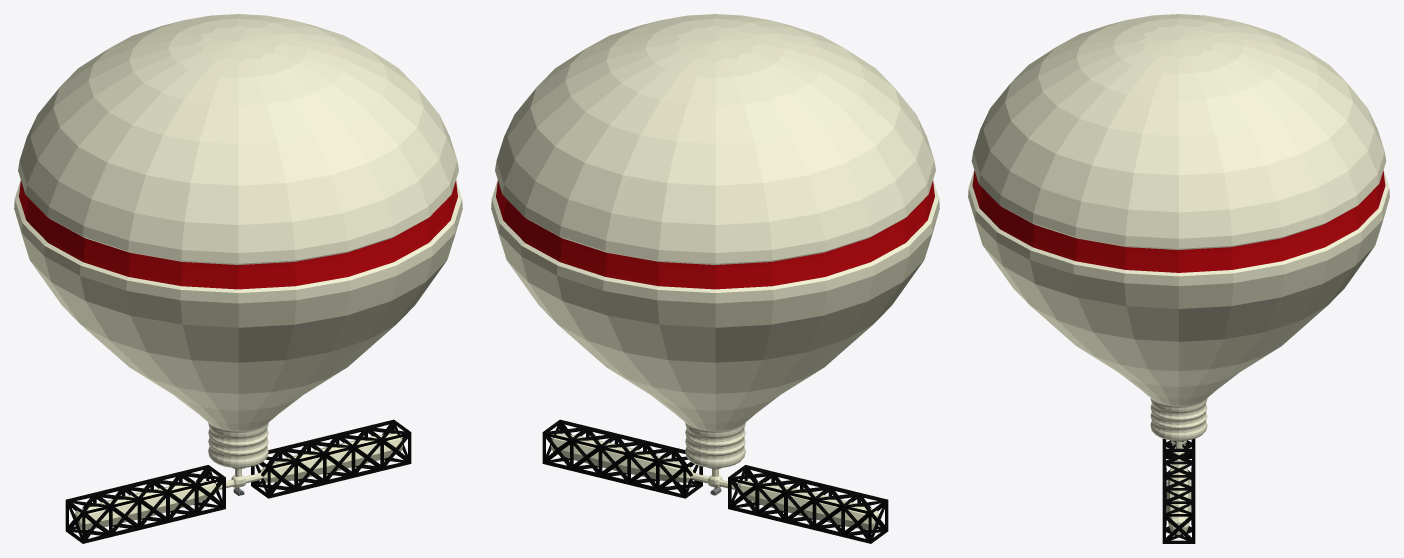
The model's file is wheater ballon.fbx.
3 views of the same model, side by side, from view 1: azimuth 30°, elevation 25°; view 2: azimuth 150°, elevation 25°; view 3: azimuth 270°, elevation 25° (orthographic). The views are drawn at different scales.
Parts seen in each view (by area): view 1: Cube.001; view 2: Cube.001; view 3: Cube.001.
Boxes of the visible parts, box(x1,y1,x2,y2) form: Cube.001: box(14, 14, 462, 543); Cube.001: box(491, 14, 939, 543); Cube.001: box(968, 14, 1389, 543).
Bounding box in the file's own units: 613 × 688 × 613.
Materials: 1 (1 with a texture image).
